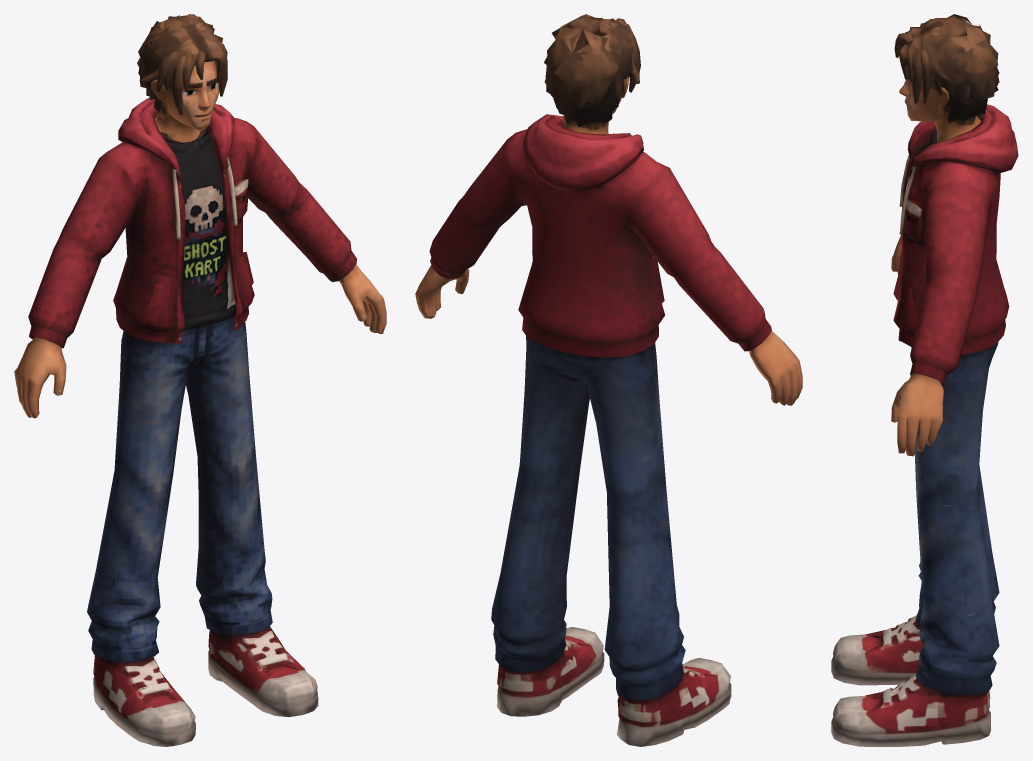
File: eddie.glb
3 renders of one model, left to right at view 1: azimuth 30°, elevation 25°; view 2: azimuth 150°, elevation 25°; view 3: azimuth 270°, elevation 25°, orthographic. The views are drawn at different scales.
Parts seen in each view (by area): view 1: geometry_0; view 2: geometry_0; view 3: geometry_0.
Part boxes in pixels (x1,y1,x2,y2): geometry_0: (14,14,386,746); geometry_0: (415,14,802,746); geometry_0: (831,14,1018,746).
Size of the model in its own units: 0.5327 by 0.9517 by 0.2358.
Materials: 1 (1 with a texture image).
